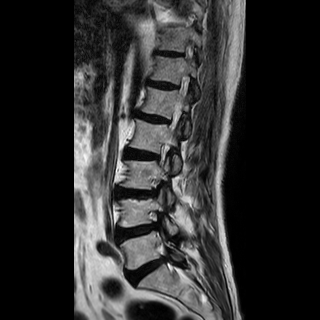RFS0: (149, 138, 174, 171)
